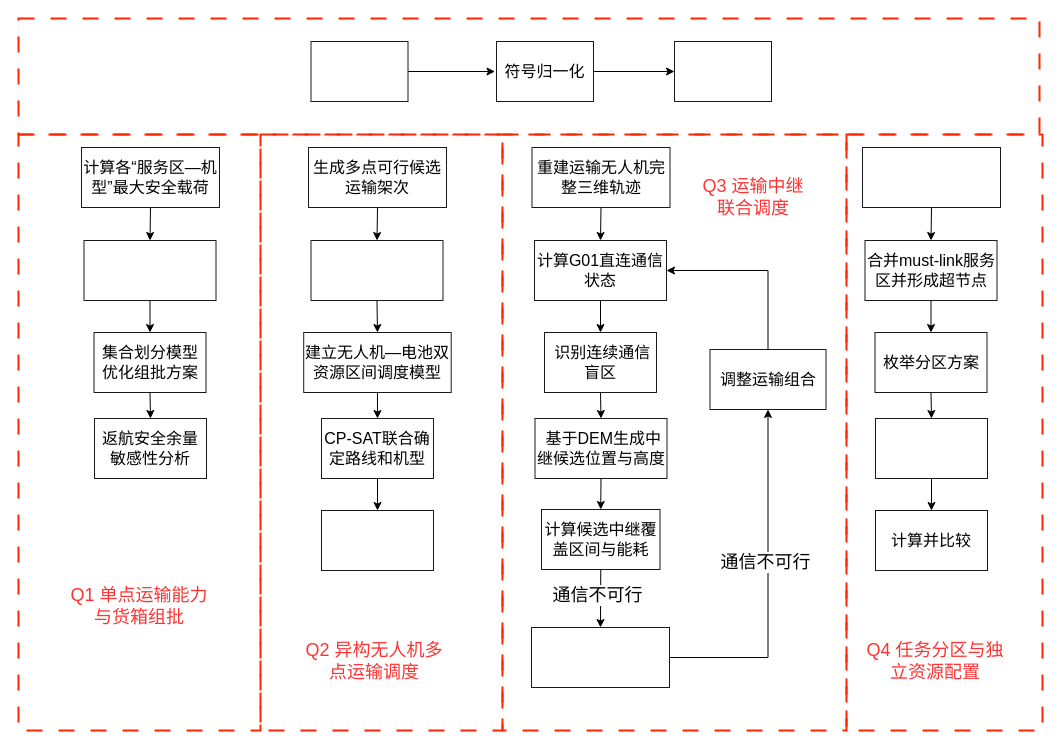
The diagram is 1060 pixels wide and 748 high, and some of its shapes have lost their labels. The shapes that lost their labels are listed below. From the top down, each one's centre as x and y in pixels, then its label:
At point (359, 71): "数据处理".
At point (723, 71): "物理量统一".
At point (931, 177): "构建服务区人物依赖关系".
At point (149, 270): "枚举同服务区可行货箱组合".
At point (376, 270): "计算逐段载荷、能耗与逐箱送达时间".
At point (931, 448): "固定各组任务时间线".
At point (377, 540): "分层优化配送".
At point (600, 657): "中继联合调度方案".
